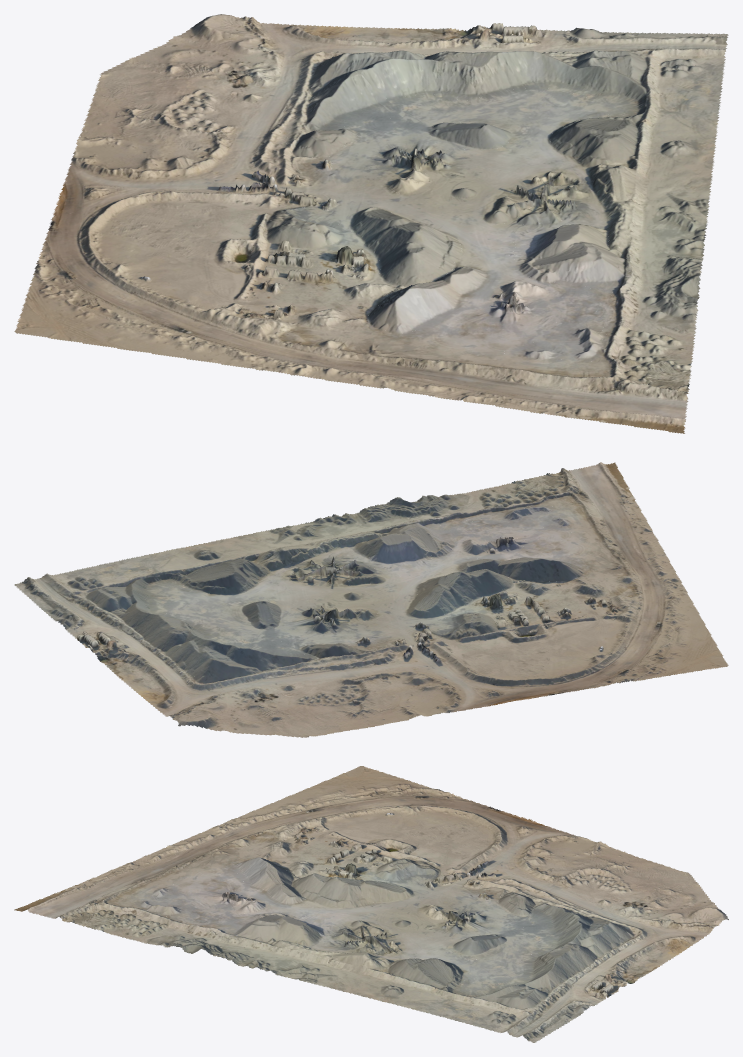
File: survey-e2.glb
3 views of the same model, one above another, from view 1: azimuth 30°, elevation 25°; view 2: azimuth 150°, elevation 25°; view 3: azimuth 270°, elevation 25° (orthographic). The views are drawn at different scales.
Visible parts, largest first — view 1: Terrain_e2; view 2: Terrain_e2; view 3: Terrain_e2.
Boxes of the visible parts, bbox=[...] form: Terrain_e2: bbox=[14, 14, 728, 433]; Terrain_e2: bbox=[14, 462, 728, 737]; Terrain_e2: bbox=[14, 766, 728, 1042].
Bounding box in the file's own units: 473 × 19.38 × 517.
Materials: 1 (1 with a texture image).
